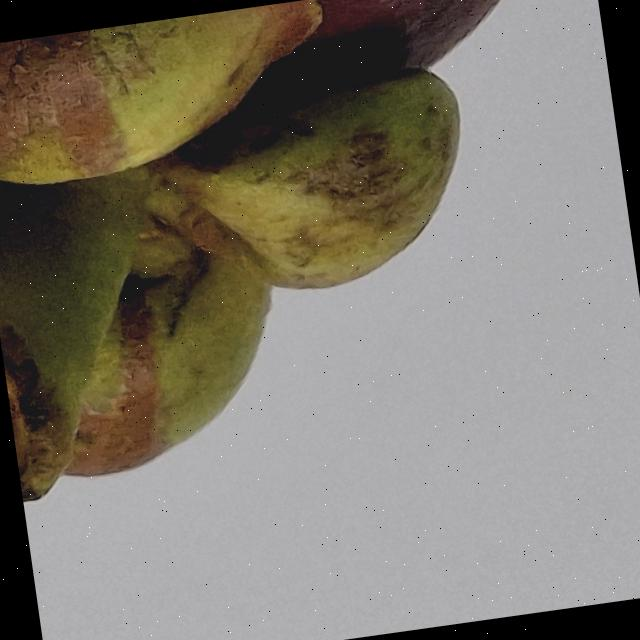mangosteen: (0, 0, 640, 547)
